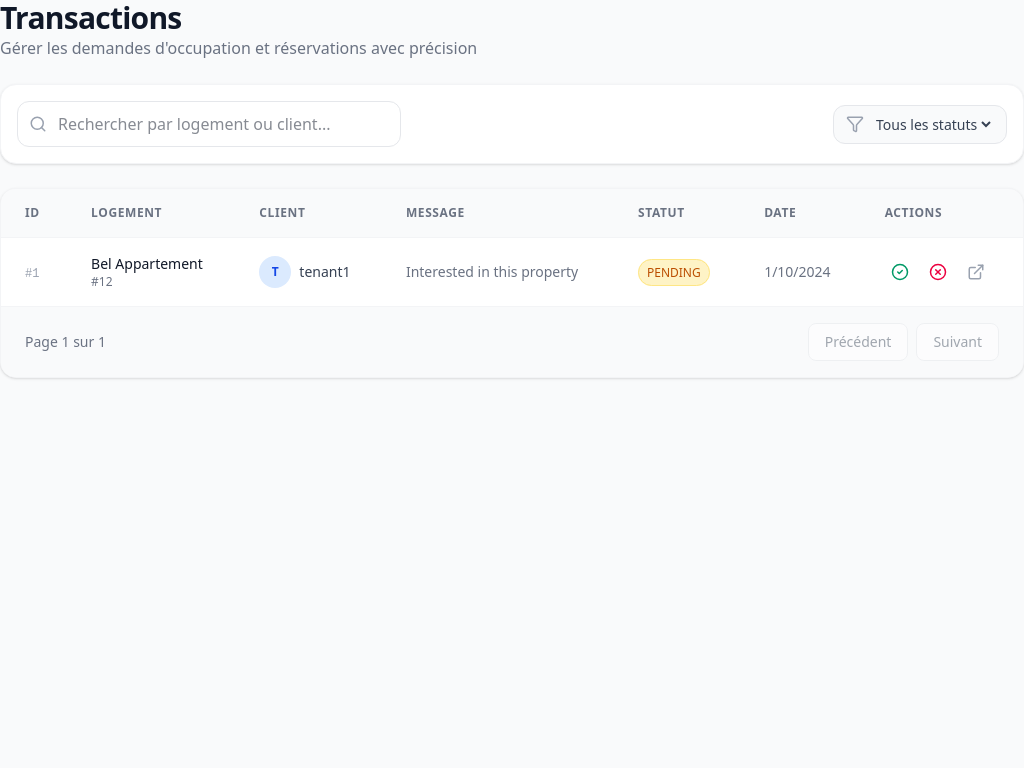
Test case: AdminTransactions Component › displays transaction details modal
The width and height of the screenshot is (1024, 768).
Check: the text "tenant1" is shown, box [299,262,350,282]
Click the button titled "Voir les détails": (976, 272) [961,257,991,287]
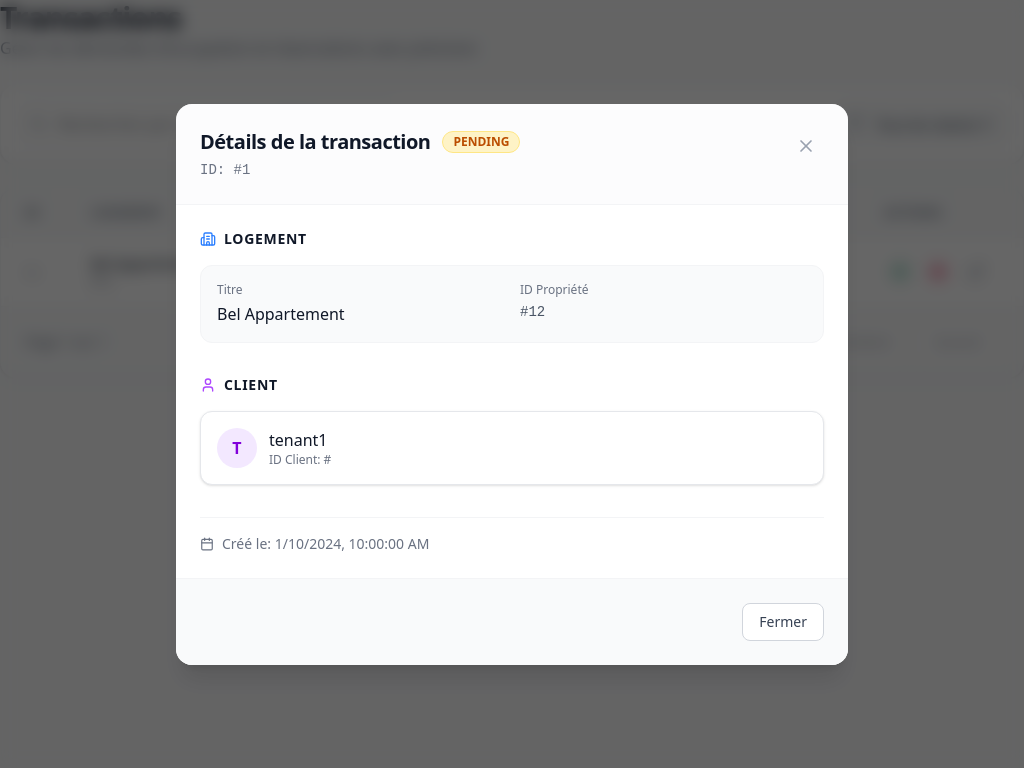
Check: the heading "Détails de la transaction" is shown, box [200,128,430,156]
